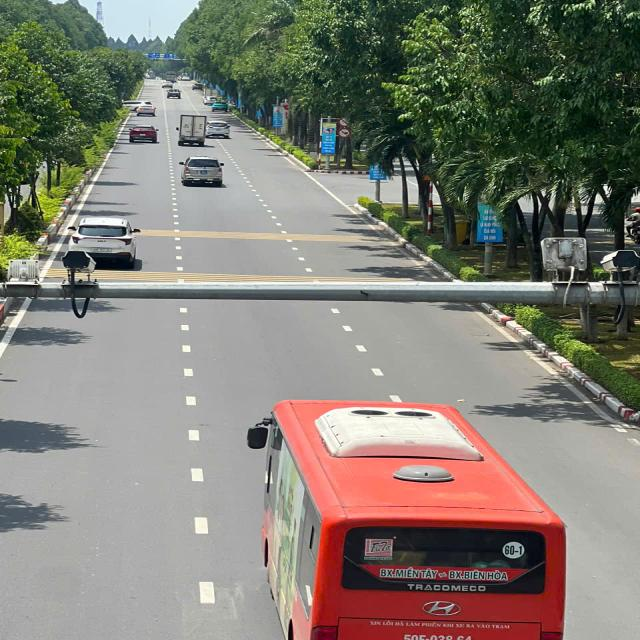Bus: (265, 409, 573, 640)
Truck: (204, 88, 218, 98), (166, 71, 177, 83)
car: (71, 216, 137, 269), (178, 155, 227, 185), (130, 124, 158, 144), (207, 120, 231, 140), (138, 105, 157, 117), (213, 102, 229, 112), (167, 89, 182, 99), (192, 83, 203, 91), (204, 97, 217, 103), (160, 82, 174, 87)
